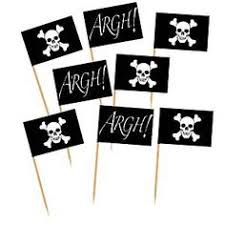Jolly Roger Flag: (19, 14, 83, 64), (22, 107, 88, 154), (157, 107, 216, 150), (153, 12, 211, 54), (113, 54, 171, 94)
